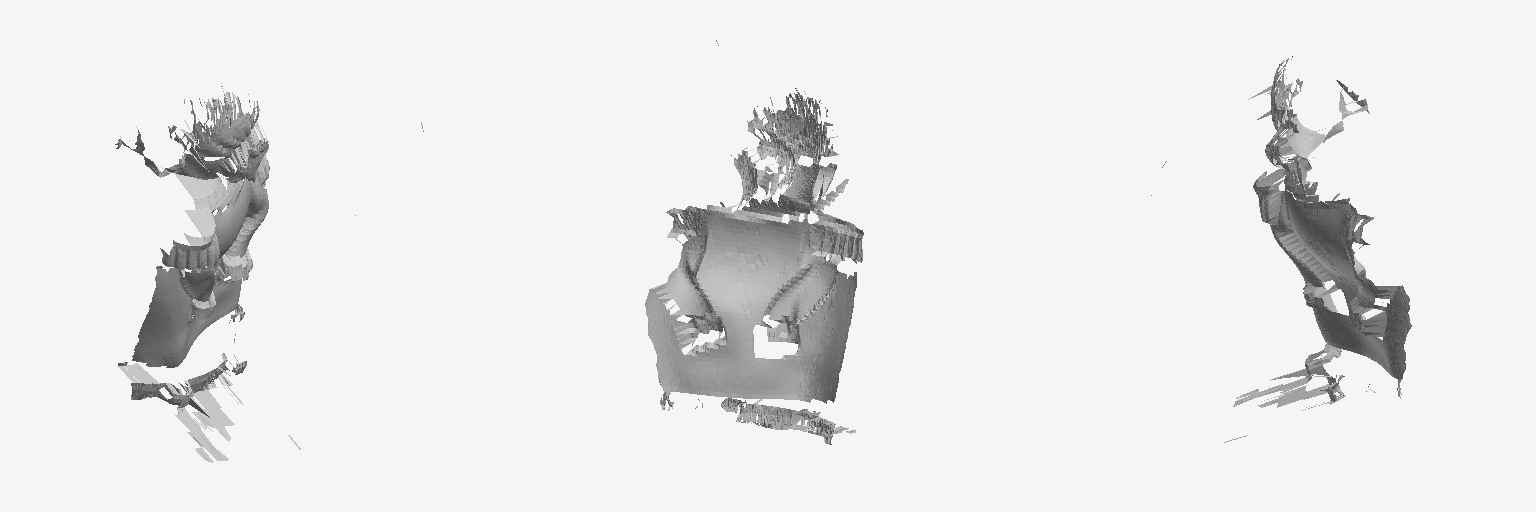
The model's file is frame-S00F23.obj.
3 views of the same model, side by side, from view 1: azimuth 30°, elevation 25°; view 2: azimuth 150°, elevation 25°; view 3: azimuth 270°, elevation 25° (orthographic).
Size of the model in its own units: 64.81 by 101 by 67.86.